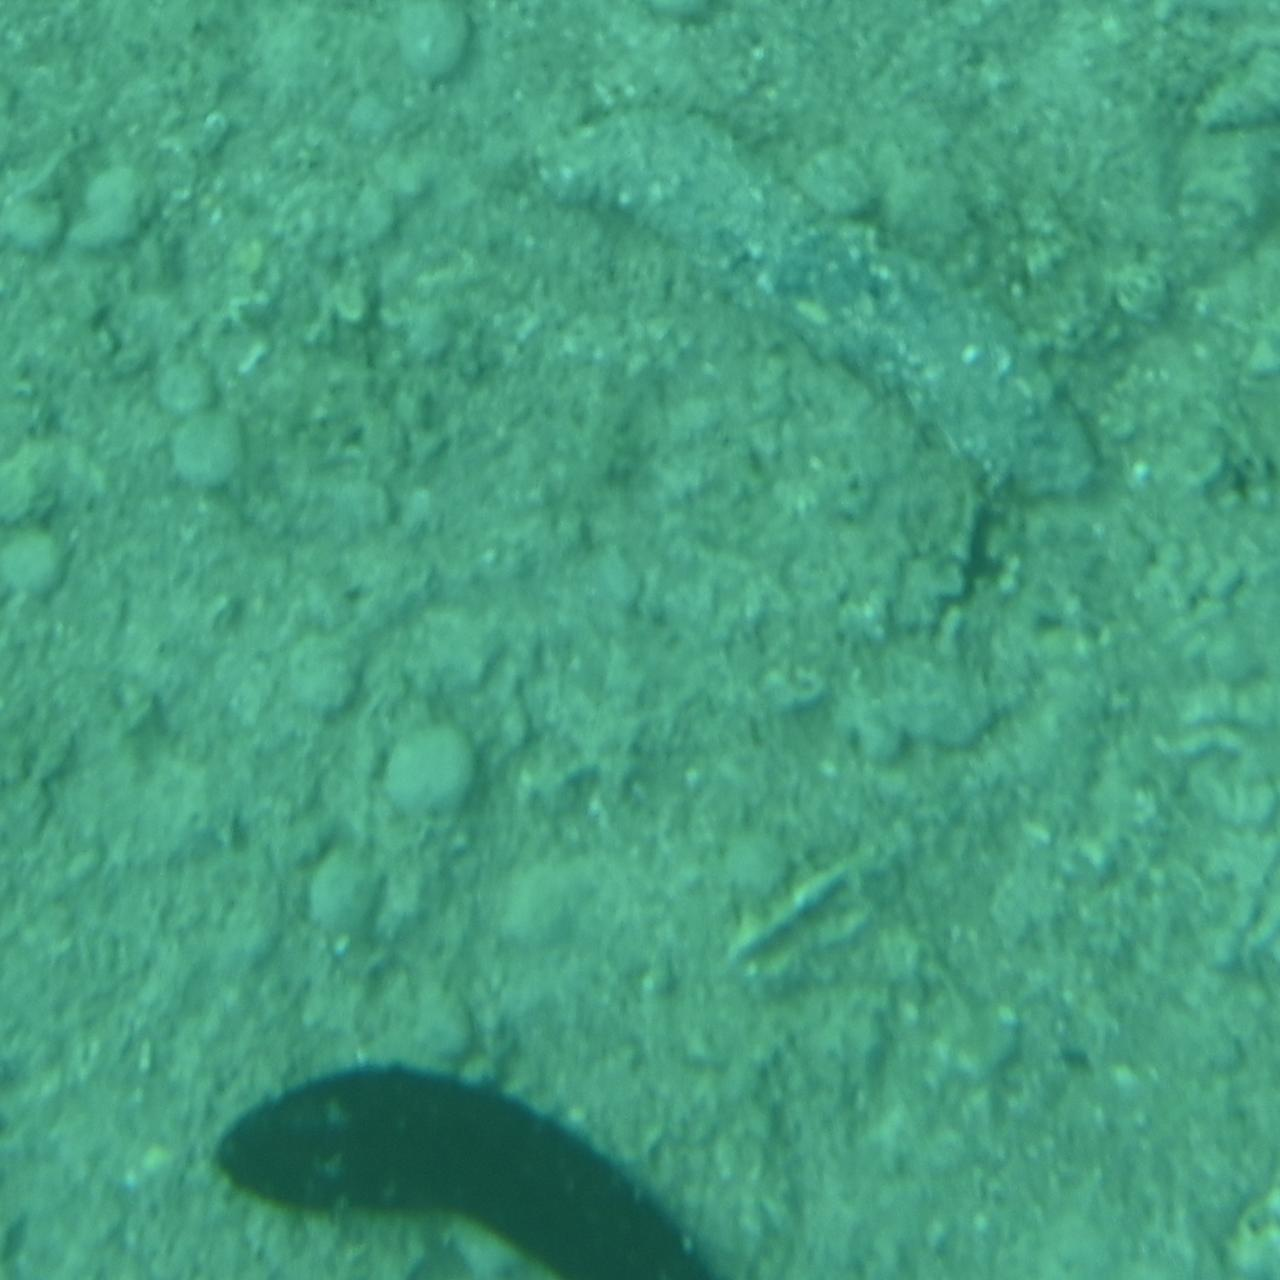Holothuria tubulosa: (506, 101, 1096, 515), (209, 1055, 751, 1278)
